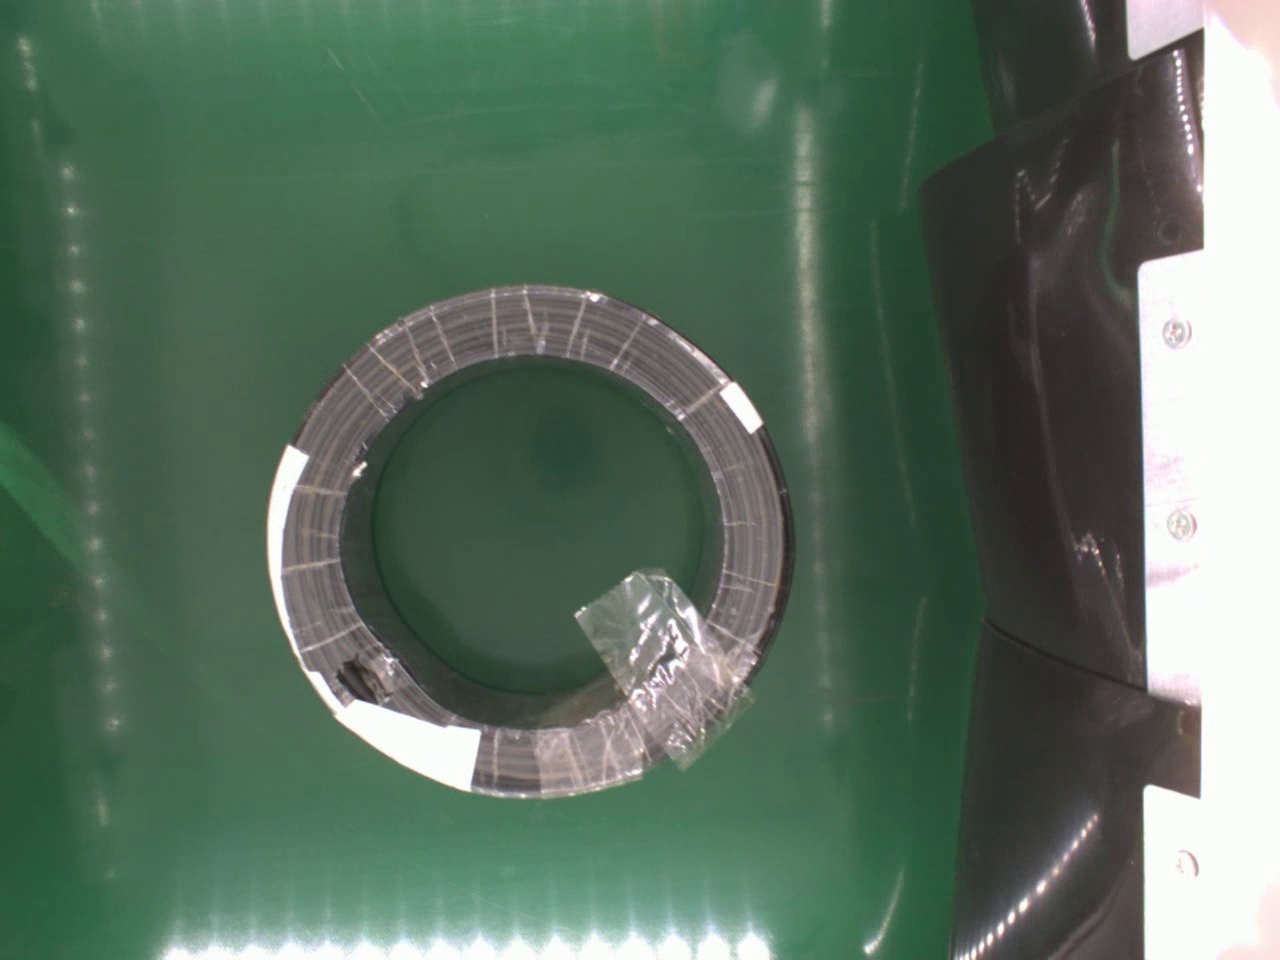black: (266, 280, 801, 805)
